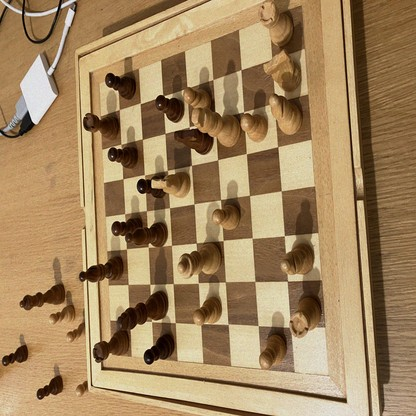bishop_black: (79, 258, 124, 284), (127, 223, 167, 249)
bishop_white: (269, 95, 302, 135), (280, 244, 315, 276)
king_black: (117, 290, 168, 330)
king_white: (192, 108, 240, 147)
knight_black: (174, 129, 214, 154)
knight_white: (264, 51, 301, 92), (151, 173, 191, 197)
pawn_black: (145, 334, 175, 364), (105, 74, 136, 99), (156, 95, 184, 122), (108, 145, 136, 166), (37, 376, 62, 397), (112, 217, 142, 234), (2, 346, 29, 364)
pawn_white: (259, 333, 287, 369), (193, 295, 221, 326), (212, 204, 242, 230), (241, 114, 268, 141), (183, 87, 211, 110), (49, 306, 76, 324)
queen_black: (20, 284, 65, 308)
queen_white: (178, 244, 221, 277)
rock_black: (93, 331, 130, 362), (83, 113, 119, 139)
rock_white: (259, 2, 294, 45), (290, 294, 321, 339)
